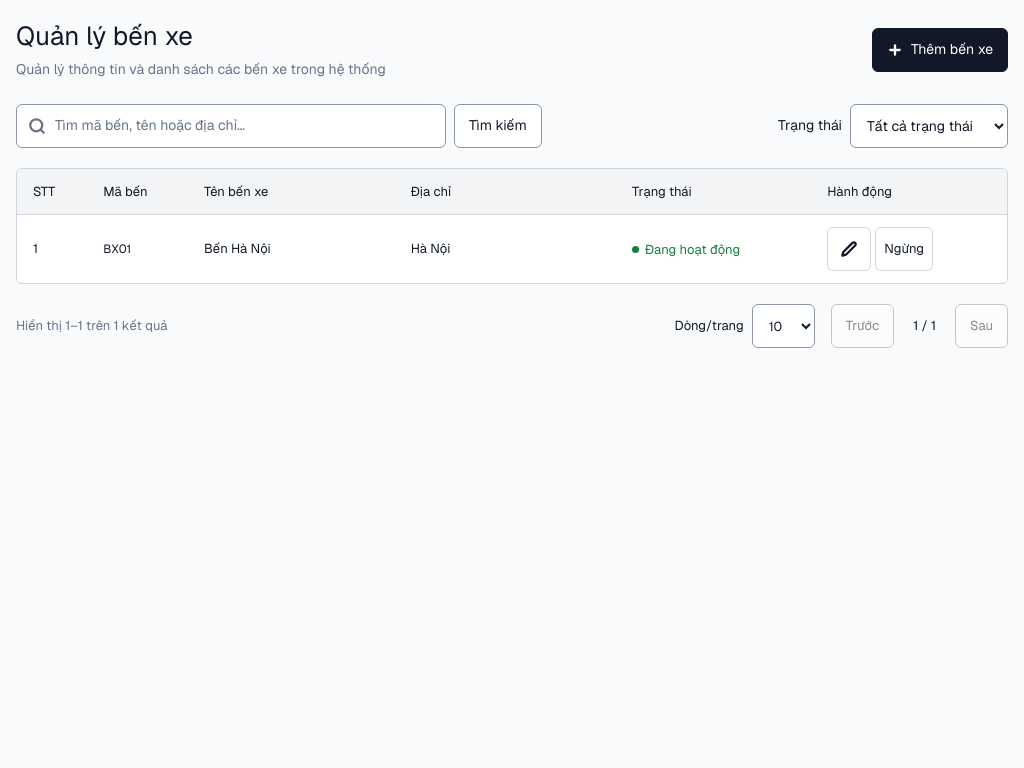
Test: Stations user flows › AC-2 preserves the form and displays a duplicate code error
The image size is (1024, 768).
Expected: the table is shown, top-left (17, 168), bottom-right (1007, 283)
Click the button "Thêm bến xe". click: [940, 50]
box: top-left (872, 28), bottom-right (1008, 72)
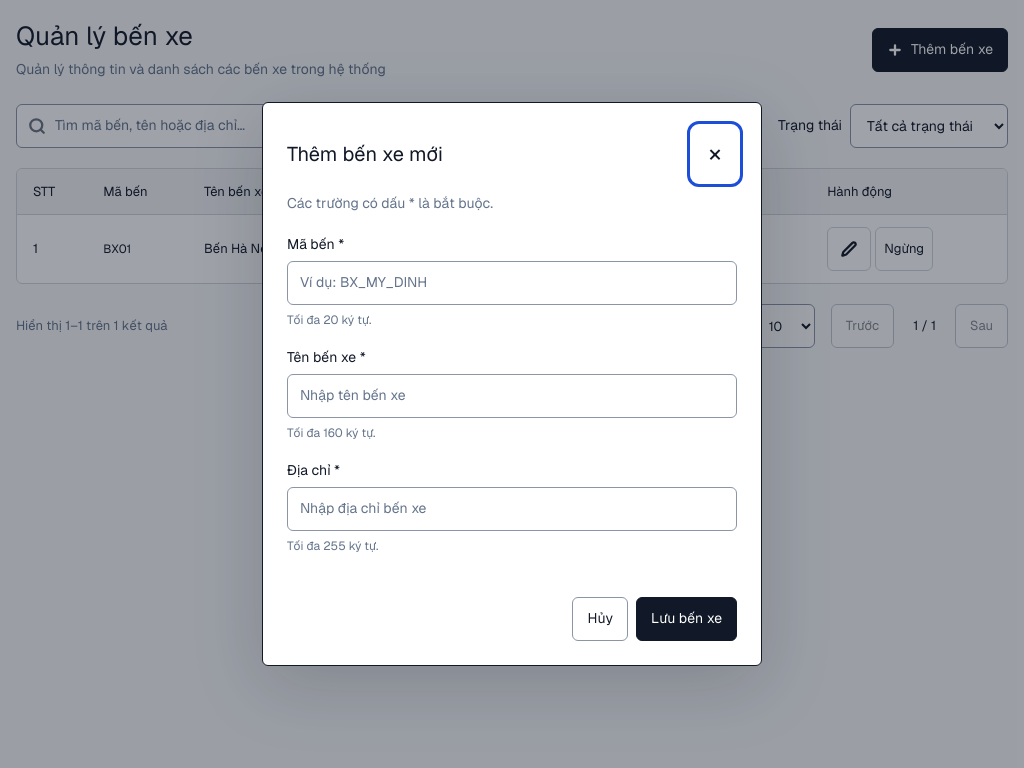
Type "BX01" into the field with placeholder "Ví dụ: BX_MY_DINH". click: [512, 283]
box: top-left (287, 261), bottom-right (737, 305)
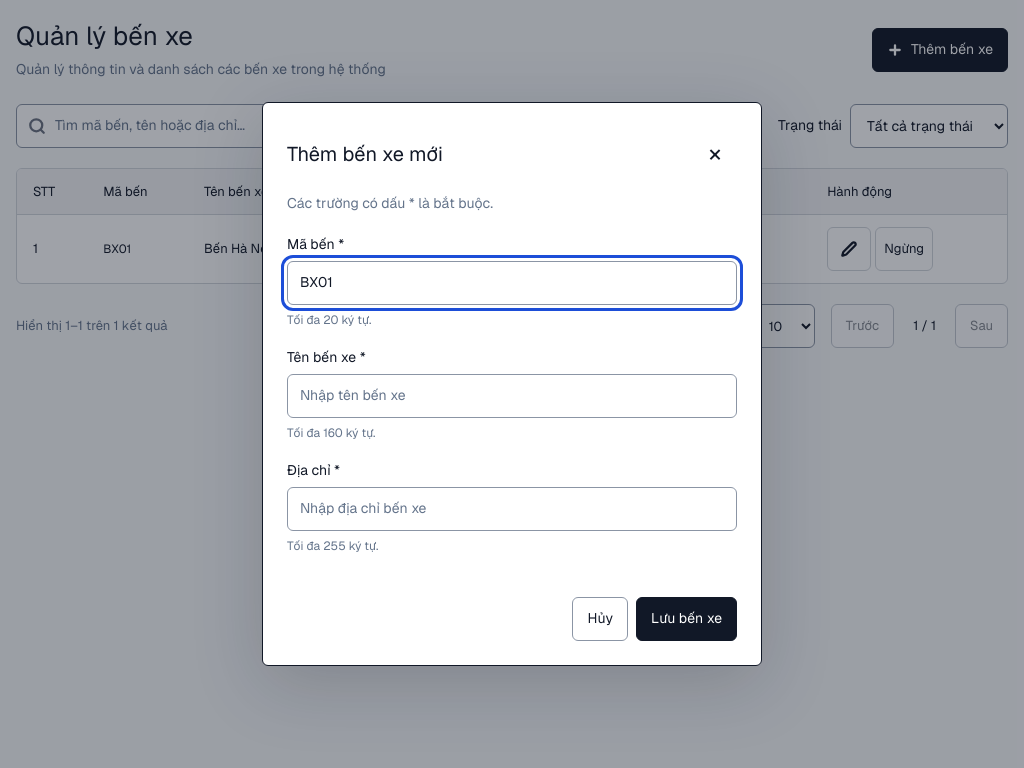
Type "Bến mới" into the field with placeholder "Nhập tên bến xe". click: [512, 396]
box: top-left (287, 374), bottom-right (737, 418)
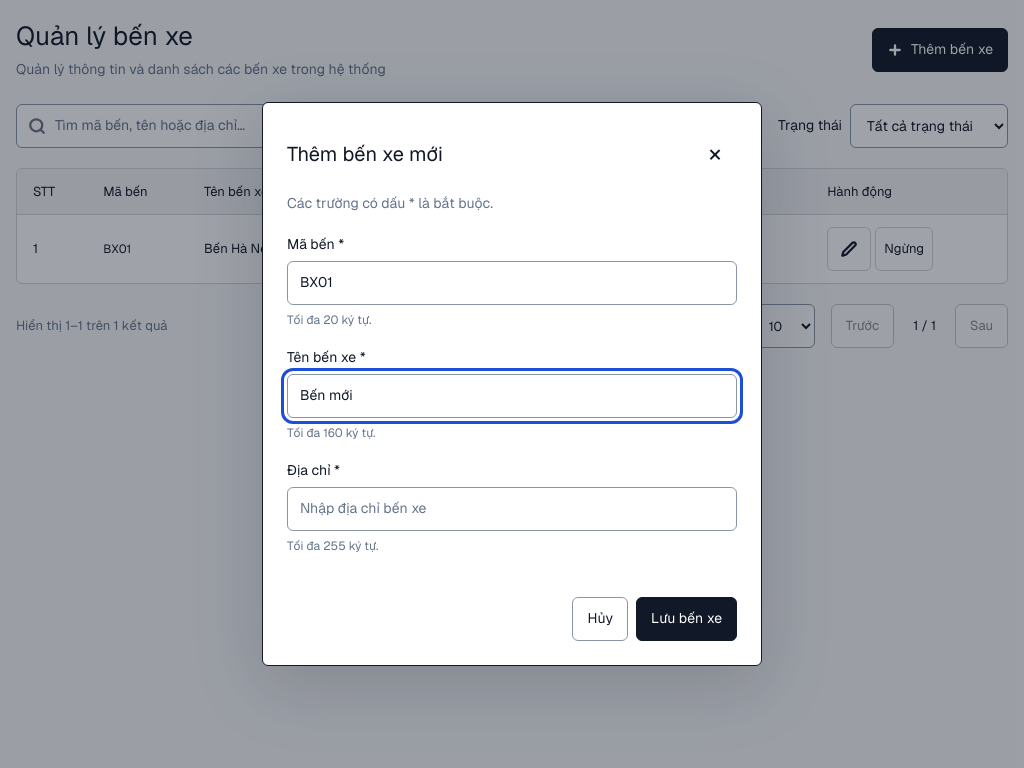
Type "Hà Nội" into the field with placeholder "Nhập địa chỉ bến xe". click: [512, 509]
box: top-left (287, 487), bottom-right (737, 531)
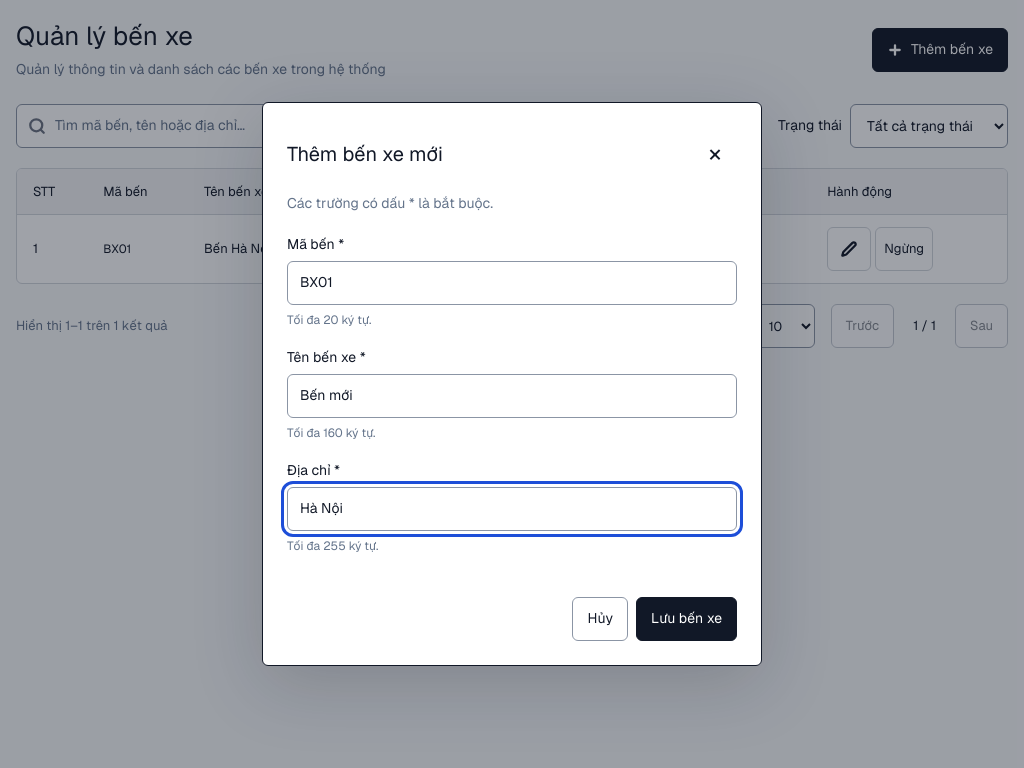
Click the button "Lưu bến xe". click: [686, 619]
box: top-left (636, 597), bottom-right (737, 641)
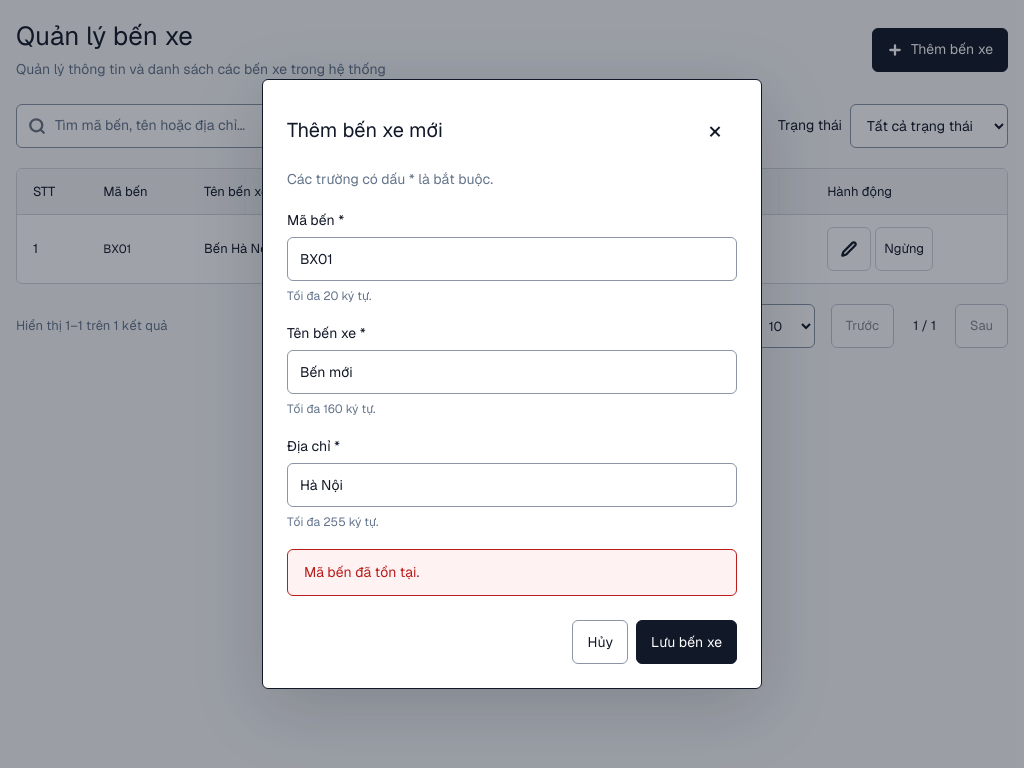
Now the message reads "Mã bến đã tồn tại.", box top-left (304, 563), bottom-right (419, 581)
